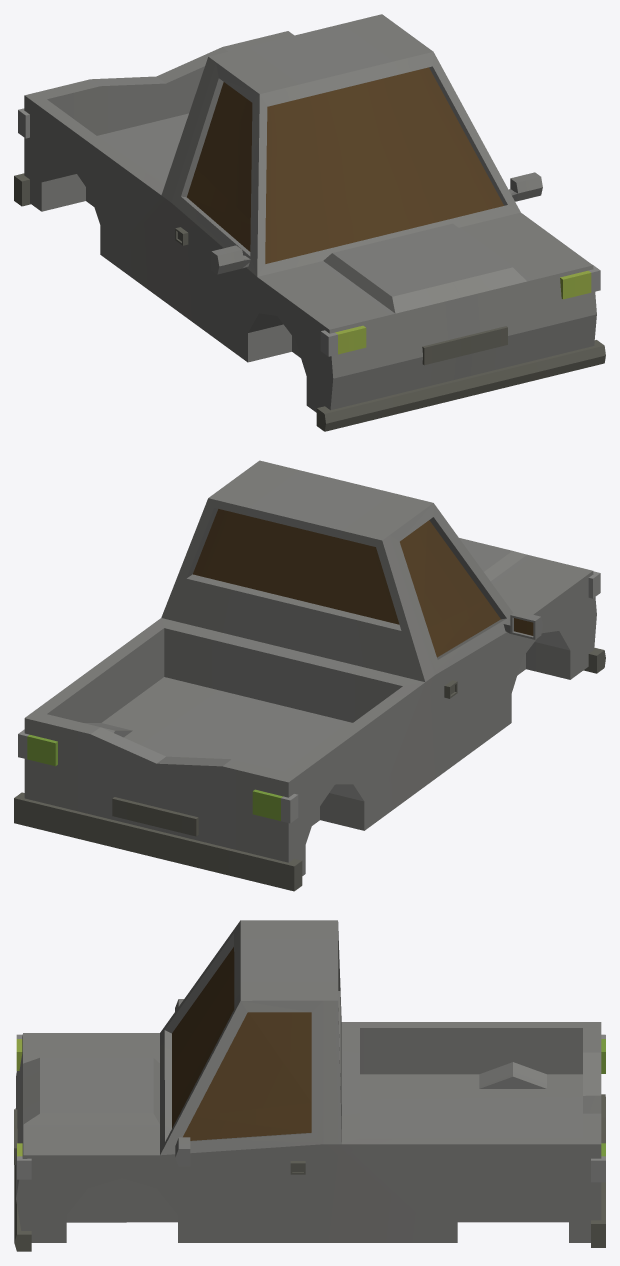
File: Car_04.fbx
3 renders of one model, top to bottom at view 1: azimuth 30°, elevation 25°; view 2: azimuth 150°, elevation 25°; view 3: azimuth 270°, elevation 25°, orthographic. The views are drawn at different scales.
Visible parts, largest first — view 1: Car_04; view 2: Car_04; view 3: Car_04.
Part boxes in pixels (box(x1,y1,x2,y2)): Car_04: box(14, 14, 605, 431); Car_04: box(14, 460, 605, 891); Car_04: box(14, 920, 605, 1251).
Bounding box in the file's own units: 1.96 × 1.38 × 3.27.
